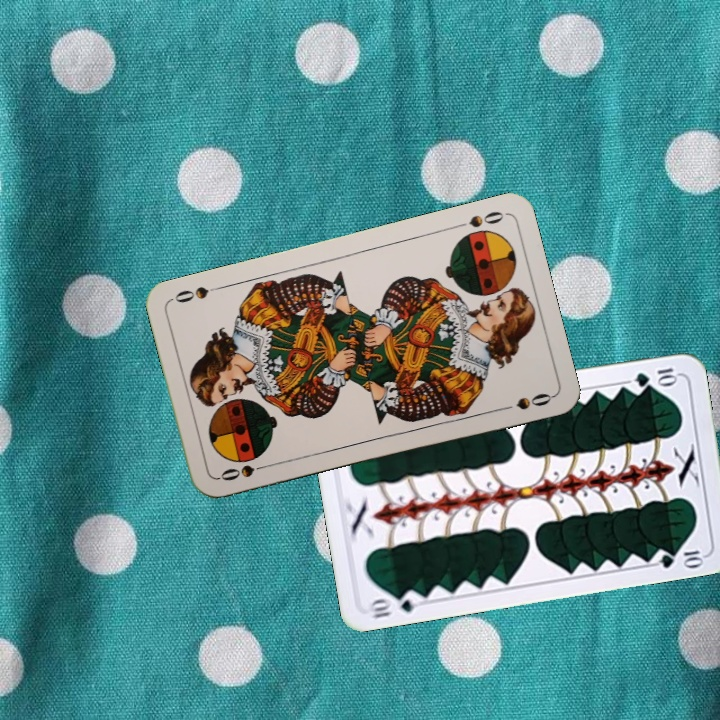G10: (364, 587, 424, 621), (631, 364, 680, 389)
SO: (215, 459, 273, 484), (450, 207, 507, 232)
